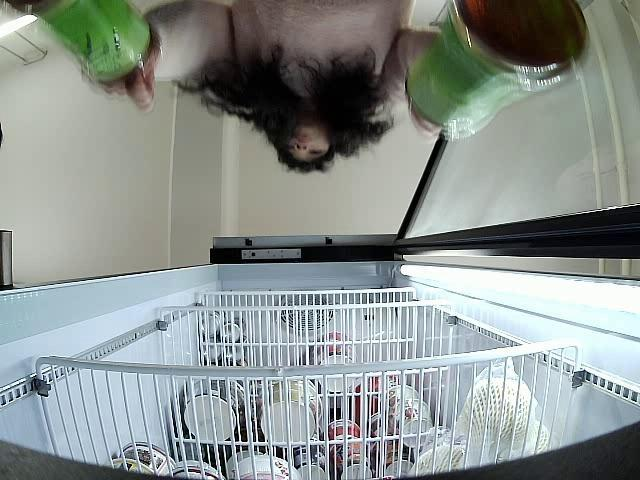19_17cha: (2, 0, 164, 96)
